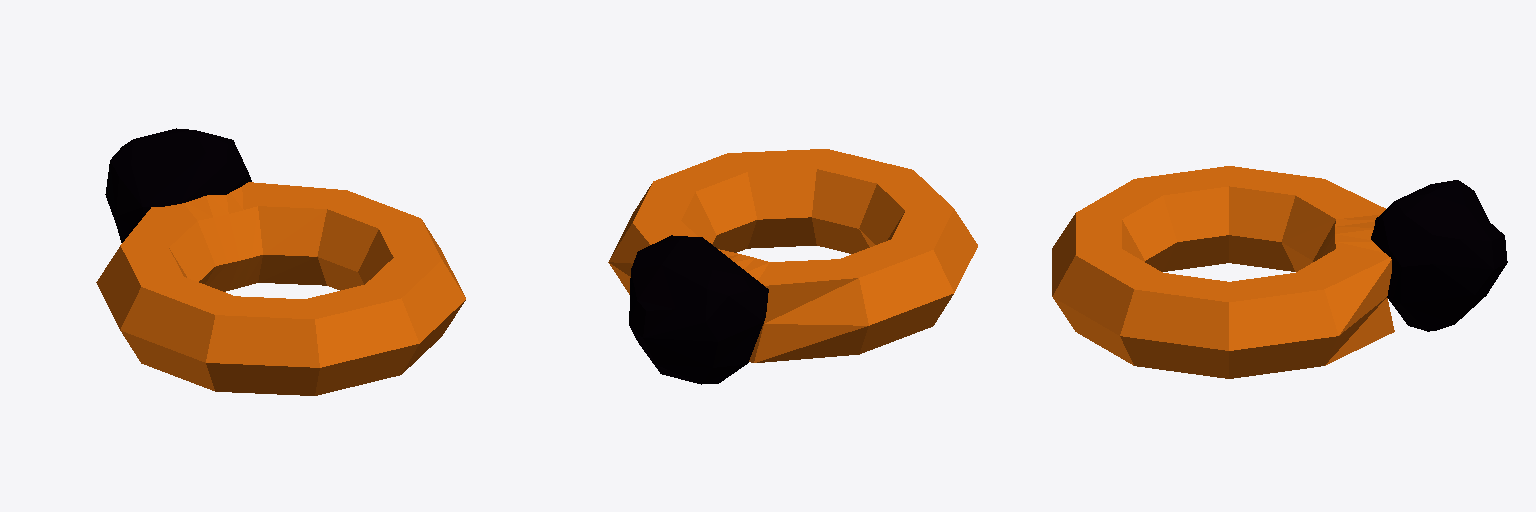
File: GroundItem.obj
The picture shows the model from 3 angles: view 1: azimuth 30°, elevation 25°; view 2: azimuth 150°, elevation 25°; view 3: azimuth 270°, elevation 25°; orthographic projection.
Parts seen in each view (by area): view 1: OnyxRingBand; view 2: OnyxRingBand; view 3: OnyxRingBand.
Boxes of the visible parts, <box> form: OnyxRingBand: <box>96,128,465,395</box>; OnyxRingBand: <box>608,149,977,384</box>; OnyxRingBand: <box>1052,166,1507,378</box>.
Size of the model in its own units: 0.1318 by 0.0536 by 0.1611.